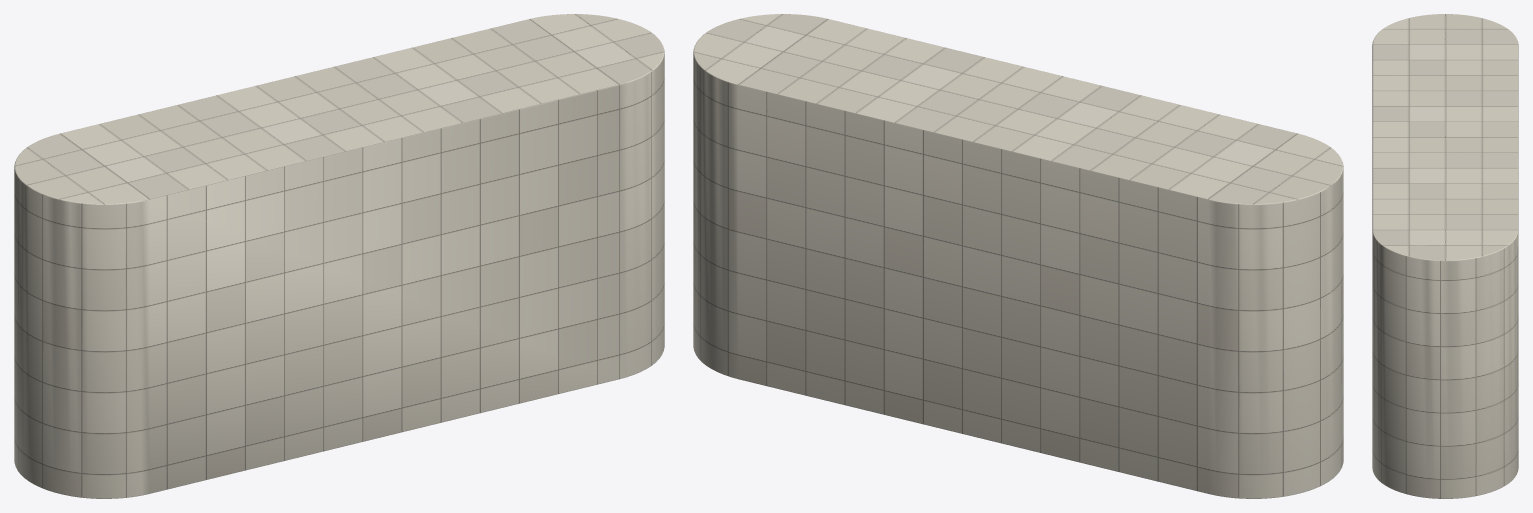
File: MOD_52_Divider_RoundedCapsule.glb
3 views of the same model, side by side, from view 1: azimuth 30°, elevation 25°; view 2: azimuth 150°, elevation 25°; view 3: azimuth 270°, elevation 25° (orthographic). The views are drawn at different scales.
Visible parts, largest first — view 1: MOD_52_Divider_RoundedCapsule_Export; view 2: MOD_52_Divider_RoundedCapsule_Export; view 3: MOD_52_Divider_RoundedCapsule_Export.
Part boxes in pixels (x1,y1,x2,y2): MOD_52_Divider_RoundedCapsule_Export: [14, 14, 664, 498]; MOD_52_Divider_RoundedCapsule_Export: [693, 14, 1343, 498]; MOD_52_Divider_RoundedCapsule_Export: [1372, 14, 1518, 498].
Size of the model in its own units: 4 by 1.8 by 1.
Materials: 1 (1 with a texture image).
